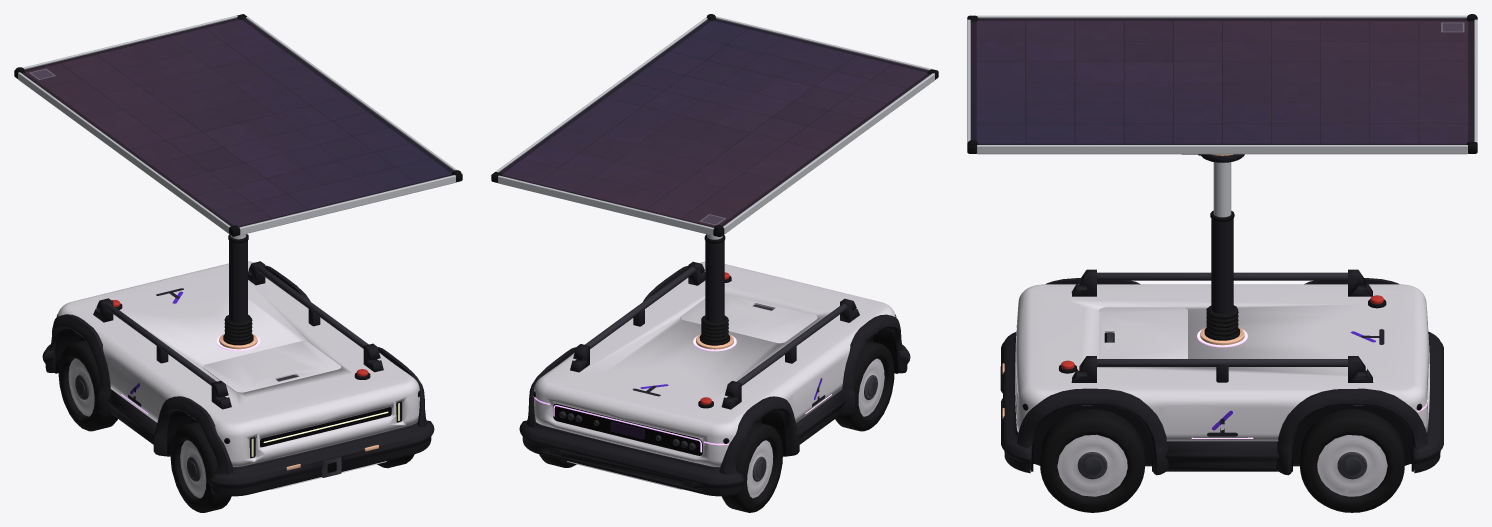
The model's file is solarbot_lod.glb.
The picture shows the model from 3 angles, left to right: view 1: azimuth 30°, elevation 25°; view 2: azimuth 150°, elevation 25°; view 3: azimuth 270°, elevation 25°; orthographic projection. The views are drawn at different scales.
Visible parts, largest first — view 1: panel_glass, panel_cells, SolarBot__Deck_Pearl, SolarBot__Cladding_Textured, panel_tilt__Aluminum_Brushed, tire_RL, tire_FL, SolarBot__Aluminum_Anodized, mast_outer, SolarBot__Trim_Black, SolarBot__Visor_Smoked, rim_FL (+2 smaller); view 2: panel_glass, panel_cells, SolarBot__Deck_Pearl, SolarBot__Cladding_Textured, panel_tilt__Aluminum_Brushed, tire_FL, SolarBot__Aluminum_Anodized, tire_RL, SolarBot__Visor_Smoked, mast_outer, SolarBot__Trim_Black, rim_RL (+2 smaller); view 3: panel_glass, panel_cells, SolarBot__Deck_Pearl, SolarBot__Cladding_Textured, panel_tilt__Aluminum_Brushed, tire_RR, tire_FR, SolarBot__Aluminum_Anodized, SolarBot__Trim_Black, rim_FR, rim_RR, mast_outer (+2 smaller).
Boxes of the visible parts, left/top/right/bottom form: panel_glass: left=22, top=17, right=453, bottom=226; panel_cells: left=22, top=18, right=453, bottom=227; SolarBot__Deck_Pearl: left=57, top=261, right=419, bottom=467; SolarBot__Cladding_Textured: left=42, top=261, right=434, bottom=496; panel_tilt__Aluminum_Brushed: left=18, top=15, right=457, bottom=235; tire_RL: left=170, top=422, right=231, bottom=512; tire_FL: left=58, top=340, right=117, bottom=431; SolarBot__Aluminum_Anodized: left=105, top=266, right=368, bottom=385; mast_outer: left=229, top=240, right=247, bottom=322; SolarBot__Trim_Black: left=55, top=234, right=370, bottom=455; SolarBot__Visor_Smoked: left=260, top=407, right=391, bottom=447; rim_FL: left=68, top=358, right=94, bottom=416; panel_glass: left=499, top=18, right=930, bottom=227; panel_cells: left=499, top=19, right=930, bottom=227; SolarBot__Deck_Pearl: left=534, top=261, right=895, bottom=467; SolarBot__Cladding_Textured: left=519, top=261, right=910, bottom=496; panel_tilt__Aluminum_Brushed: left=495, top=16, right=934, bottom=235; tire_FL: left=722, top=422, right=782, bottom=512; SolarBot__Aluminum_Anodized: left=559, top=266, right=847, bottom=449; tire_RL: left=835, top=340, right=894, bottom=431; SolarBot__Visor_Smoked: left=553, top=403, right=702, bottom=455; mast_outer: left=705, top=241, right=724, bottom=322; SolarBot__Trim_Black: left=698, top=234, right=898, bottom=455; rim_RL: left=858, top=358, right=884, bottom=416; panel_glass: left=971, top=17, right=1473, bottom=144; panel_cells: left=970, top=18, right=1474, bottom=144; SolarBot__Deck_Pearl: left=1015, top=284, right=1429, bottom=441; SolarBot__Cladding_Textured: left=1000, top=269, right=1443, bottom=475; panel_tilt__Aluminum_Brushed: left=967, top=15, right=1477, bottom=154; tire_RR: left=1040, top=409, right=1145, bottom=512; tire_FR: left=1300, top=409, right=1404, bottom=512; SolarBot__Aluminum_Anodized: left=1097, top=272, right=1347, bottom=366; SolarBot__Trim_Black: left=1031, top=210, right=1413, bottom=471; rim_FR: left=1317, top=435, right=1387, bottom=496; rim_RR: left=1057, top=434, right=1127, bottom=496; mast_outer: left=1211, top=219, right=1233, bottom=313.
Bounding box in the file's own units: 1 × 1.35 × 1.65.
26 materials, 1 textured.
